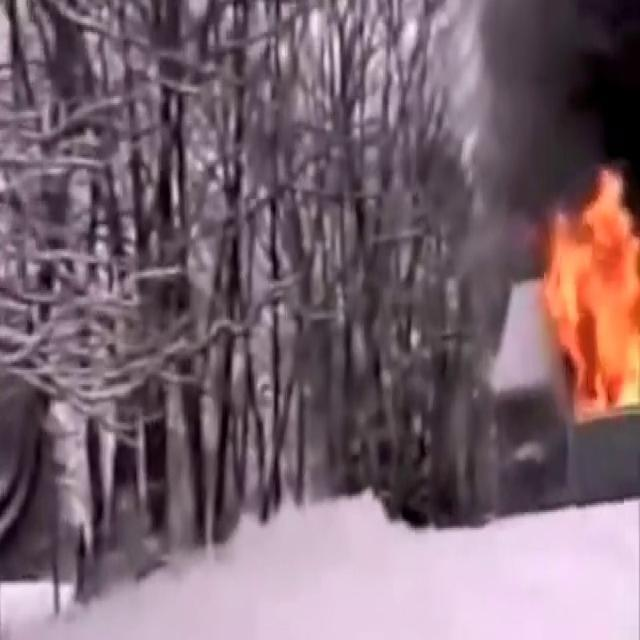Fire: (531, 165, 640, 422)
Smoke: (445, 0, 640, 231)
